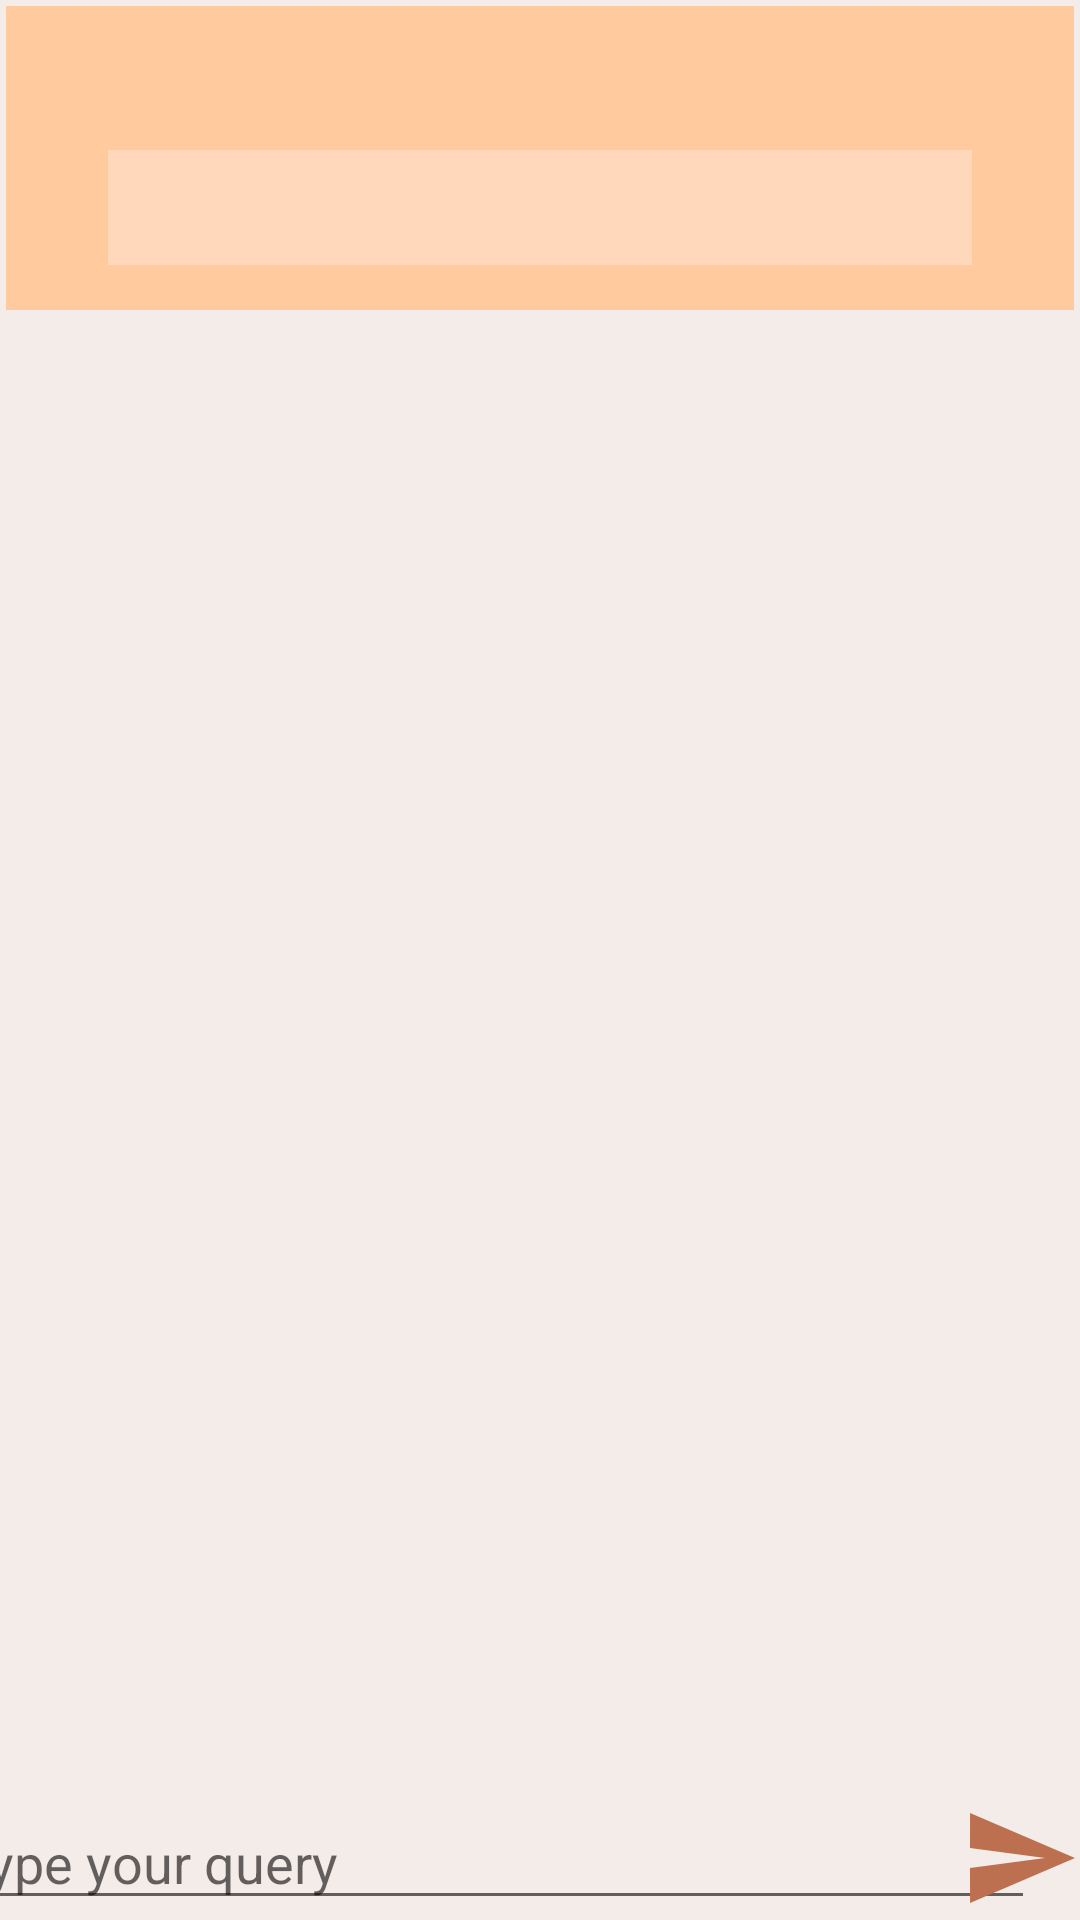

Icons on this 1080w x 1920h Android screen, each with its box as [left=x1, top=y1, right=x2, bottom=y2]:
send: [left=960, top=1813, right=1075, bottom=1903]
